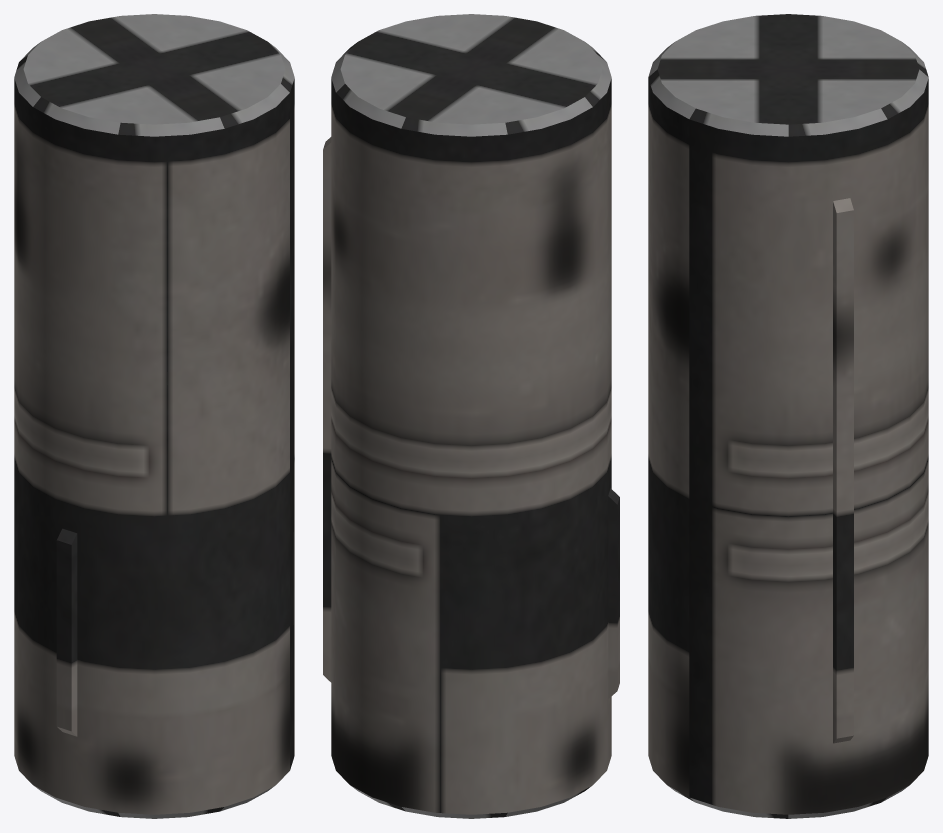
Rendered from Arrow_FuelTank_0p5_1.obj.
The picture shows the model from 3 angles, left to right: view 1: azimuth 30°, elevation 25°; view 2: azimuth 150°, elevation 25°; view 3: azimuth 270°, elevation 25°; orthographic projection.
Parts seen in each view (by area): view 1: Arrow_FuelTank_0p5_1; view 2: Arrow_FuelTank_0p5_1; view 3: Arrow_FuelTank_0p5_1.
Part boxes in pixels (x1=…): Arrow_FuelTank_0p5_1: x1=14, y1=14, x2=294, y2=818; Arrow_FuelTank_0p5_1: x1=323, y1=14, x2=619, y2=818; Arrow_FuelTank_0p5_1: x1=648, y1=14, x2=928, y2=818.
Bounding box in the file's own units: 0.9404 × 2.56 × 0.9375.
